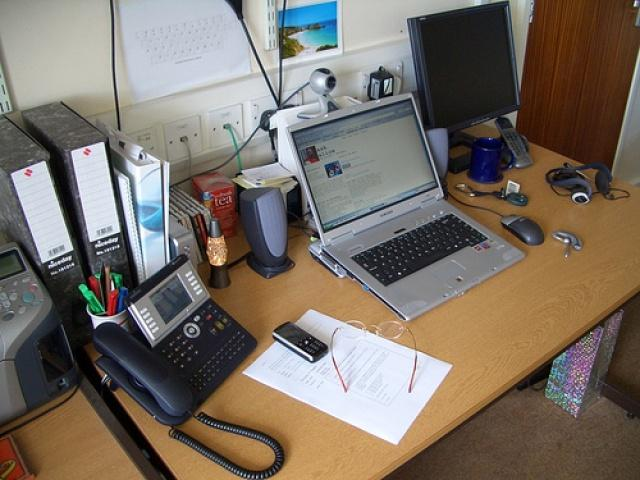AIO PC-Monitor-TV: (407, 0, 522, 133)
